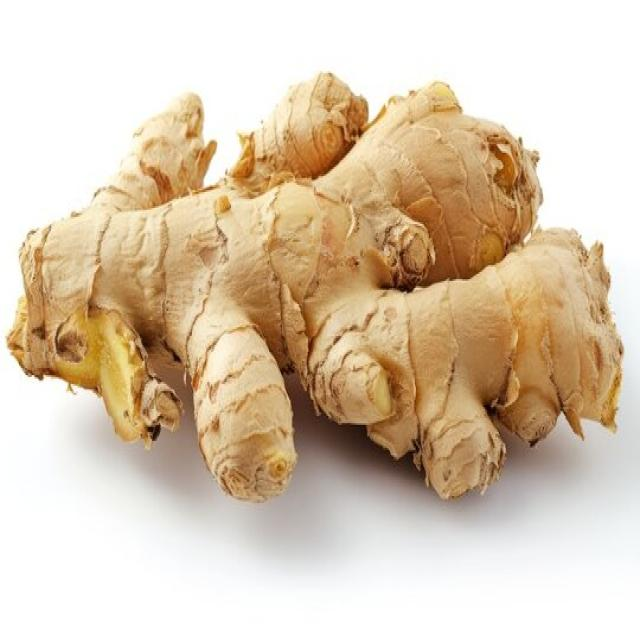Ginger: (0, 74, 617, 508)
